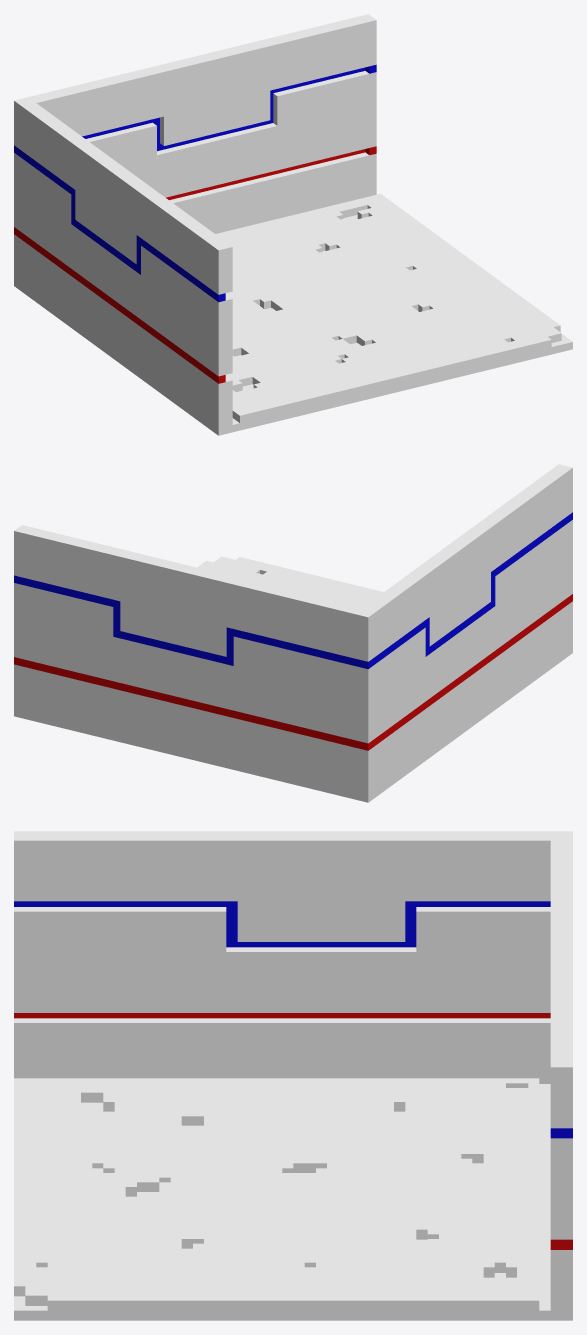
Rendered from corridorCornerRight01_NoRoof.fbx.
3 renders of one model, top to bottom at view 1: azimuth 30°, elevation 25°; view 2: azimuth 150°, elevation 25°; view 3: azimuth 270°, elevation 25°, orthographic. The views are drawn at different scales.
Parts seen in each view (by area): view 1: floor1.003, wall_left1.006, wall_left1.005; view 2: wall_left1.006, wall_left1.005, floor1.003; view 3: wall_left1.005, floor1.003, wall_left1.006.
Boxes of the visible parts, x1,y1,x2,y2 form: floor1.003: [215, 194, 572, 432]; wall_left1.006: [14, 14, 376, 291]; wall_left1.005: [14, 100, 232, 435]; wall_left1.006: [14, 525, 376, 802]; wall_left1.005: [354, 464, 572, 802]; floor1.003: [197, 556, 383, 607]; wall_left1.005: [14, 831, 572, 1083]; floor1.003: [14, 1078, 550, 1320]; wall_left1.006: [550, 831, 572, 1320].
Size of the model in its own units: 4 by 2 by 4.
Materials: 3 (3 with a texture image).
